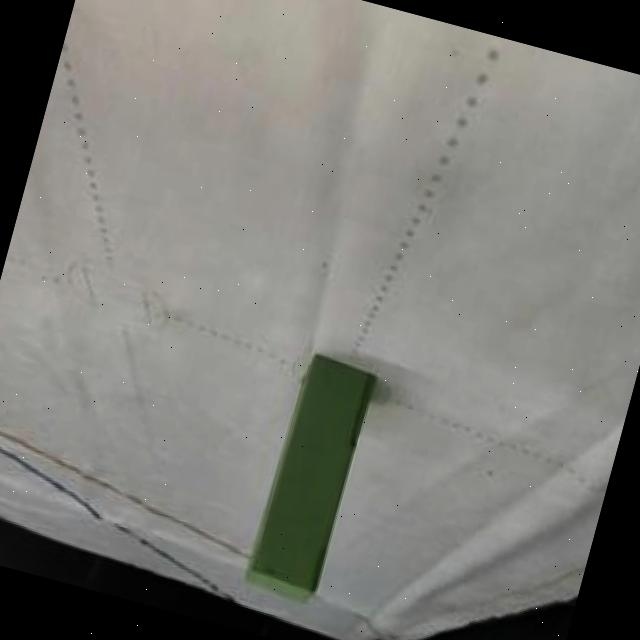greenbox: (243, 348, 382, 614)
